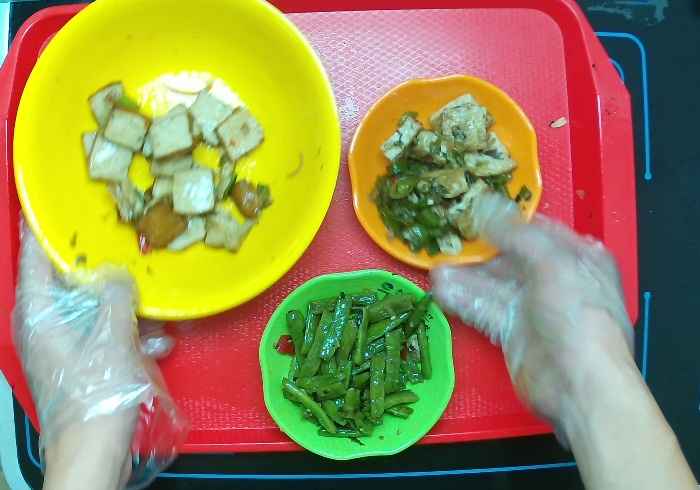YKMZ-Huang_Se_Tang_Wan: (7, 1, 347, 334)
YKMZ-Ju_Se_Ao_Bian_Wan: (350, 76, 546, 266)
YKMZ-Lv_Se_Ao_Bian_Wan: (259, 273, 460, 467)
